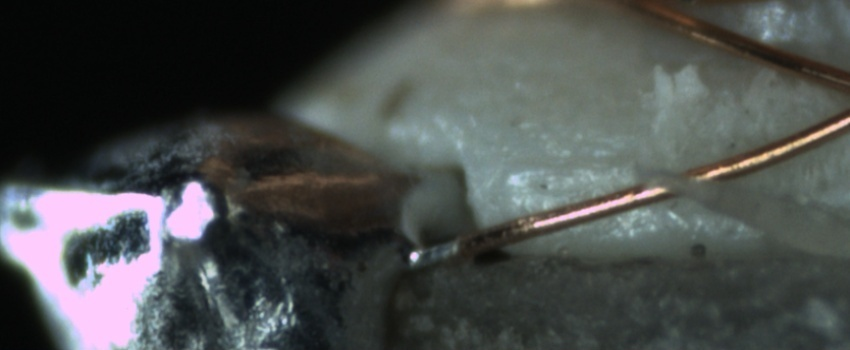DL: (499, 135, 639, 191)
TS: (403, 235, 459, 270)
